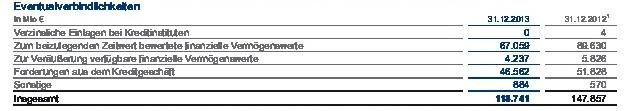table: (0, 0, 632, 111)
